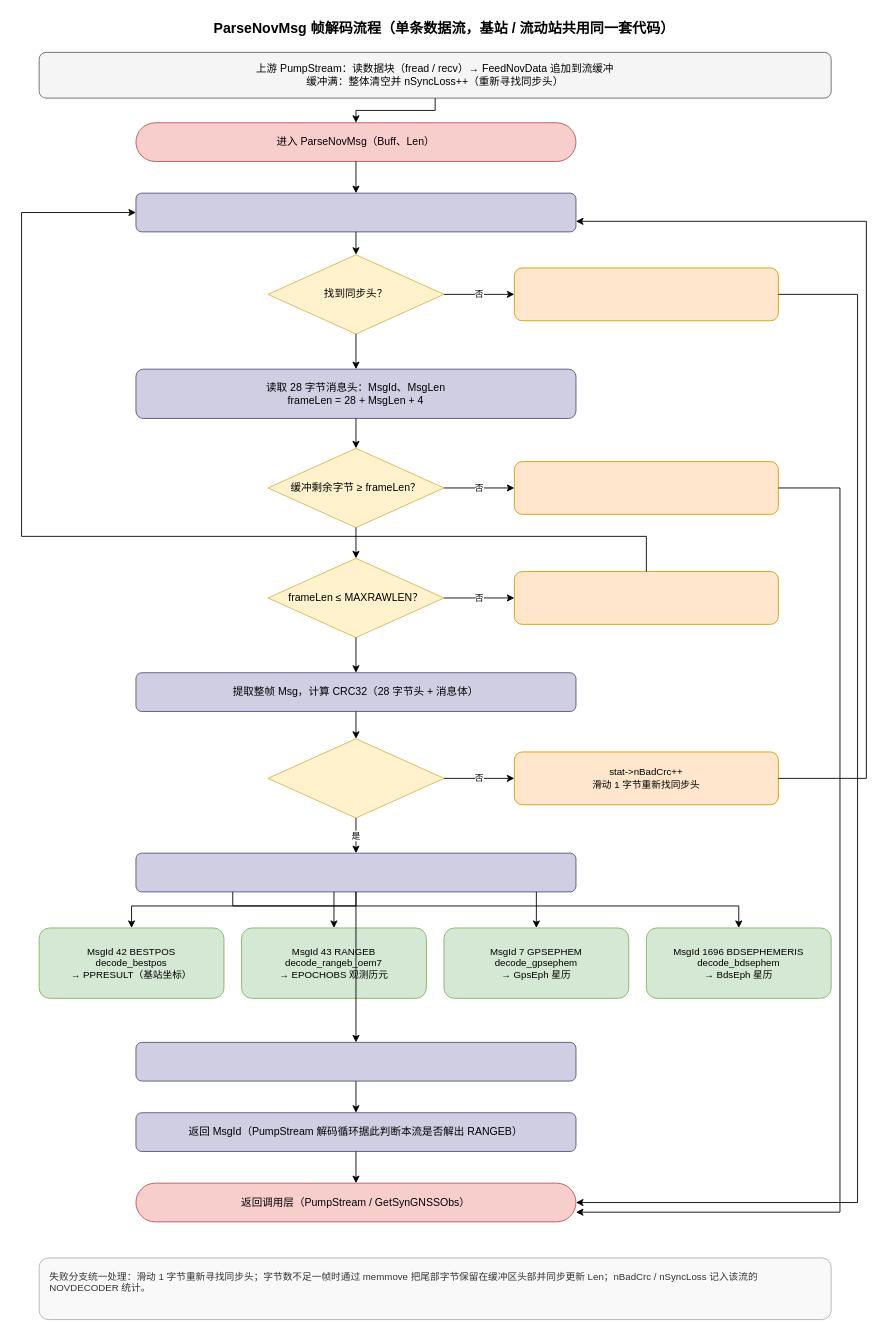
Some shapes in this 889 by 1335 pixel diagram are drawn without their labels. Each missing label, with the centre of its shape:
"CRC 校验通过？" goes at (x=355, y=778).
"从当前位置滑动搜索同步头 0xAA 44 12" goes at (x=355, y=212).
"半帧保留：尾部字节前移 返回 0（下次继续拼接）" goes at (x=645, y=487).
"已处理帧移出缓冲，剩余字节前移（memmove）" goes at (x=355, y=1061).
"按 MsgId 分发并解码消息体" goes at (x=355, y=872).
"未处理的尾部字节前移保留 返回 0（等待更多数据）" goes at (x=645, y=294).
"视为误同步 滑动 1 字节重新找同步头" goes at (x=645, y=597).
